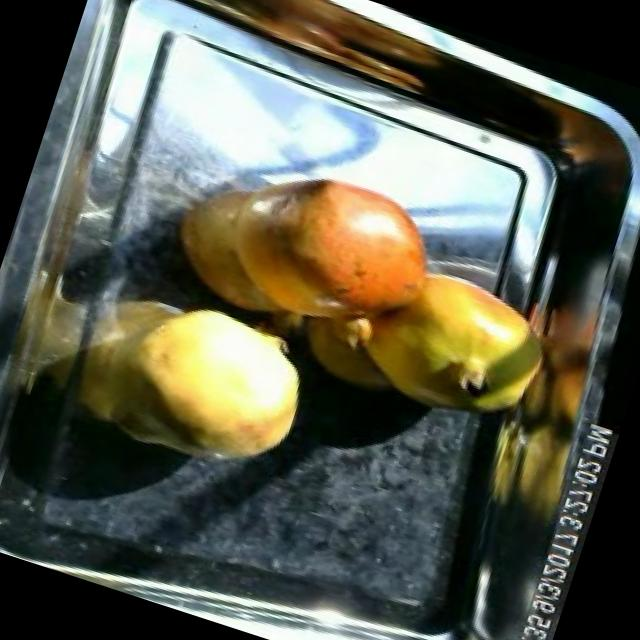fruit: (51, 258, 339, 501), (199, 138, 466, 370), (330, 240, 573, 448)
